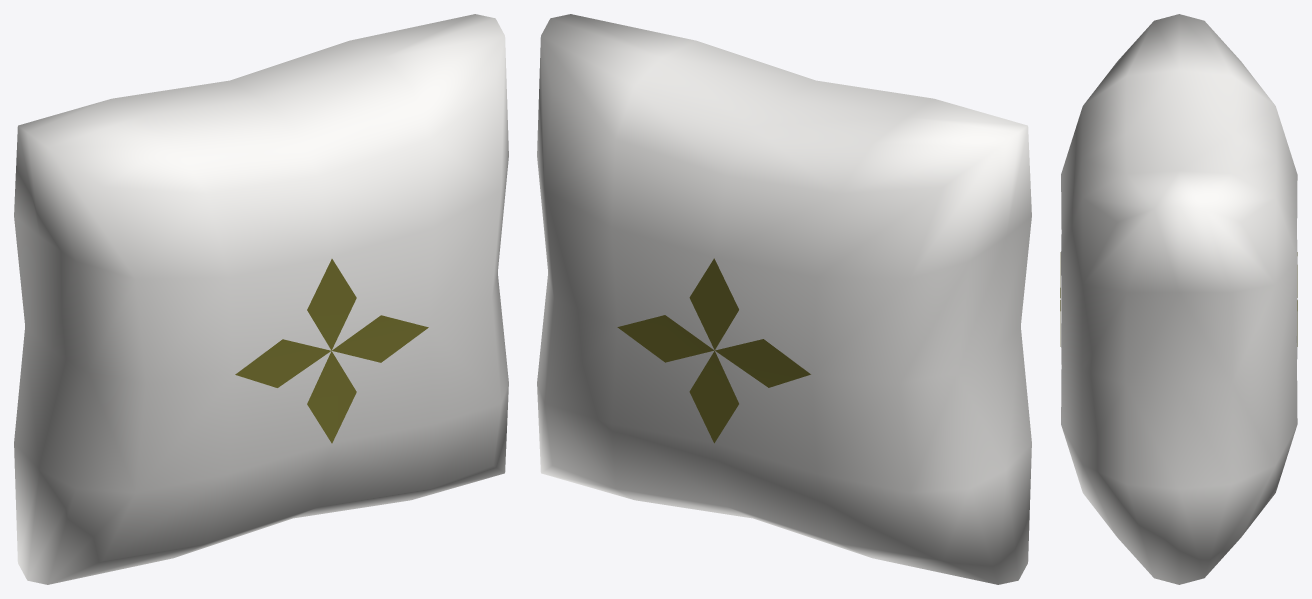
Rendered from Pillow_20.glb.
3 renders of one model, left to right at view 1: azimuth 30°, elevation 25°; view 2: azimuth 150°, elevation 25°; view 3: azimuth 270°, elevation 25°, orthographic. The views are drawn at different scales.
Parts seen in each view (by area): view 1: Pillow_20; view 2: Pillow_20; view 3: Pillow_20.
Boxes of the visible parts, x1,y1,x2,y2 form: Pillow_20: (14,14,508,584); Pillow_20: (537,14,1031,584); Pillow_20: (1060,14,1297,584).
Size of the model in its own units: 0.6192 by 0.566 by 0.3223.
1 material, 1 textured.
